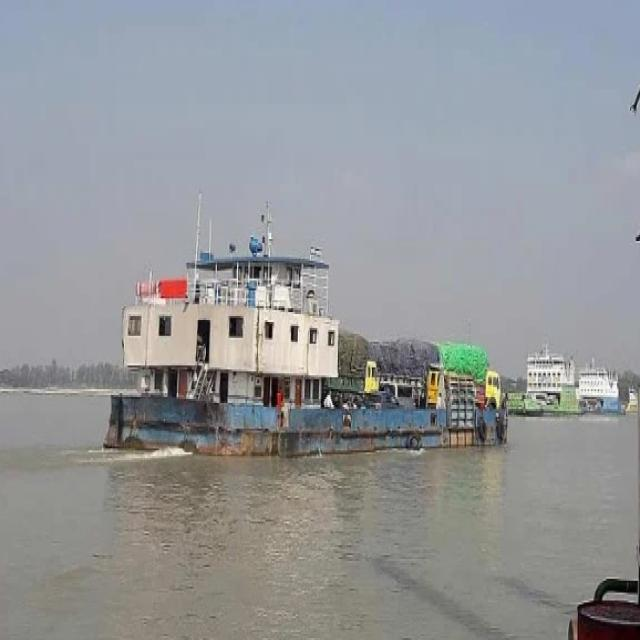cargoship: (70, 190, 515, 467)
